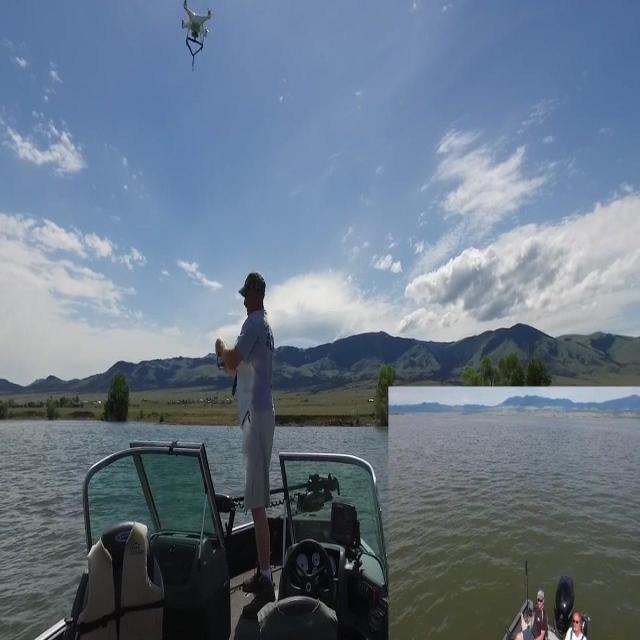UAV: (182, 0, 212, 71)
